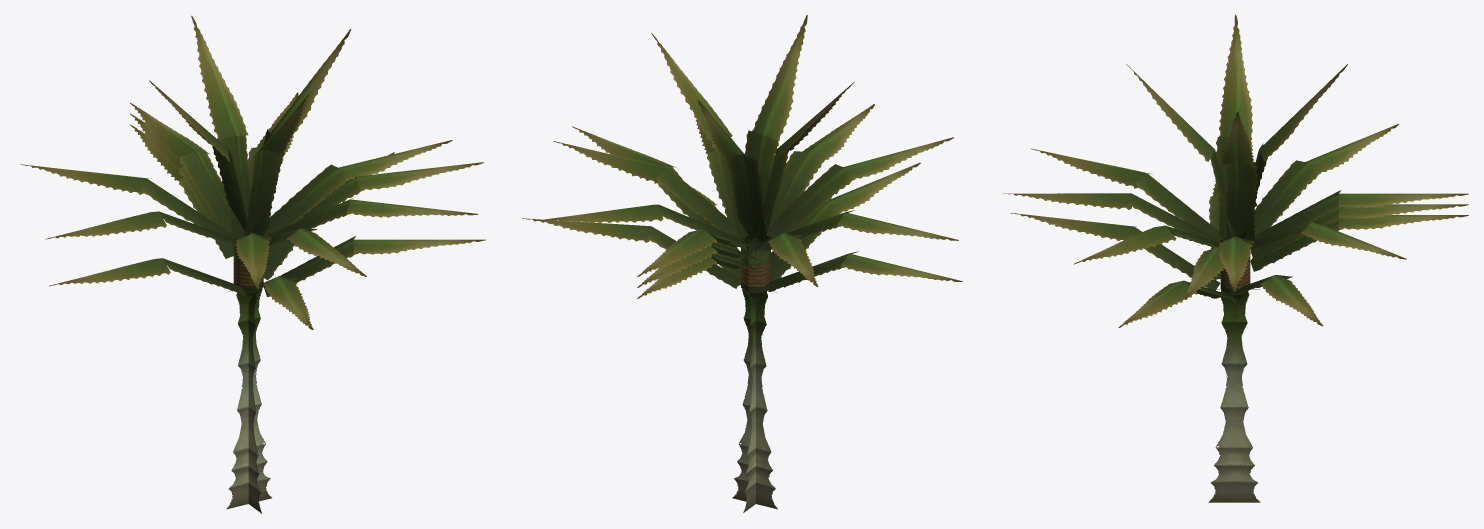
Rendered from flat_tree.dae.
3 views of the same model, side by side, from view 1: azimuth 30°, elevation 25°; view 2: azimuth 150°, elevation 25°; view 3: azimuth 270°, elevation 25° (orthographic).
Parts seen in each view (by area): view 1: palm (×30); view 2: palm (×33); view 3: palm (×29).
Part boxes in pixels (bbox=[...]): palm (×30): bbox=[20, 15, 485, 513]; palm (×33): bbox=[522, 15, 962, 512]; palm (×29): bbox=[1003, 14, 1468, 502].
Bounding box in the file's own units: 79.57 × 78.28 × 81.44.
Materials: 2 (2 with a texture image).
